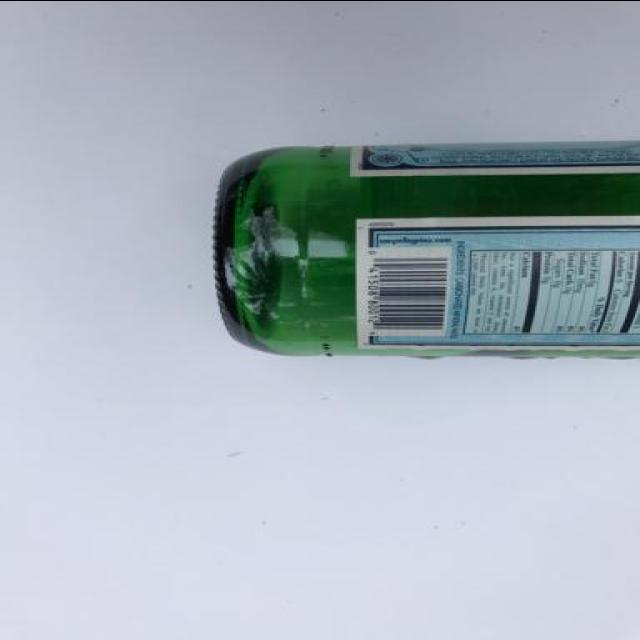Glass Bottle: (211, 138, 640, 364)
